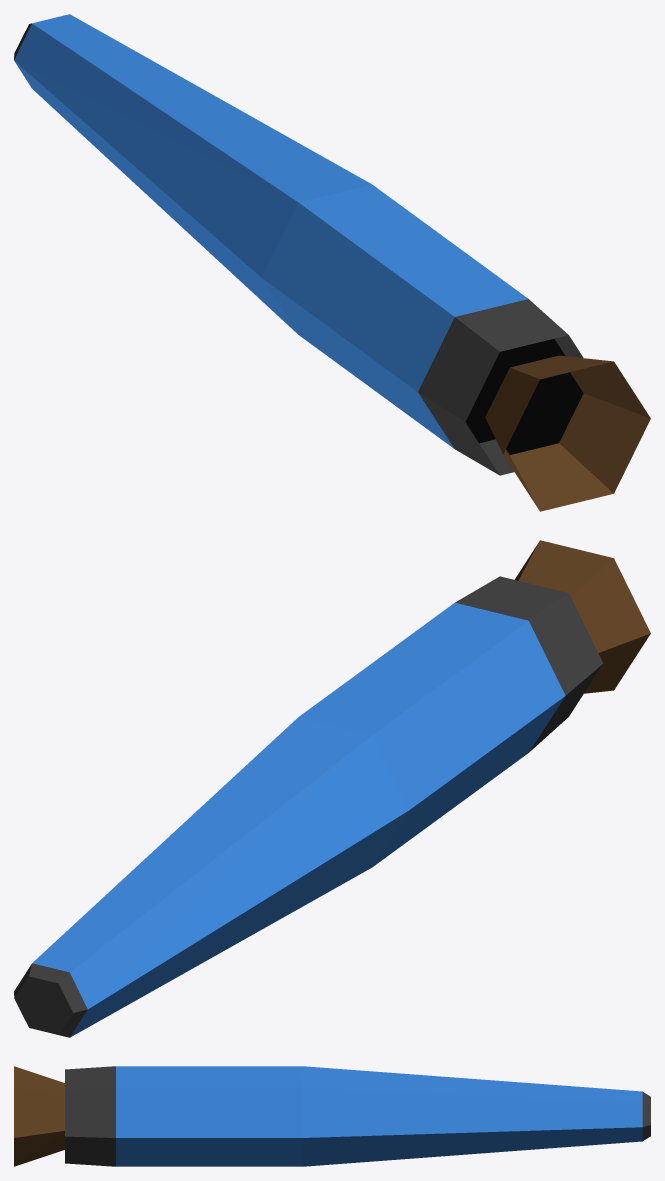
The model's file is vernier.FBX.
The picture shows the model from 3 angles, top to bottom: view 1: azimuth 30°, elevation 25°; view 2: azimuth 150°, elevation 25°; view 3: azimuth 270°, elevation 25°; orthographic projection. The views are drawn at different scales.
Visible parts, largest first — view 1: VIFS002, VIFS001, VIFS003, VIFS005, VIFS004; view 2: VIFS002, VIFS003, VIFS001; view 3: VIFS002, VIFS003, VIFS001.
Boxes of the visible parts, left/top/right/bottom form: VIFS002: left=14, top=14, right=528, bottom=448; VIFS001: left=485, top=355, right=650, bottom=511; VIFS003: left=14, top=23, right=583, bottom=475; VIFS005: left=506, top=372, right=583, bottom=454; VIFS004: left=465, top=339, right=565, bottom=443; VIFS002: left=32, top=602, right=565, bottom=1037; VIFS003: left=14, top=576, right=603, bottom=1037; VIFS001: left=514, top=540, right=650, bottom=693; VIFS002: left=116, top=1066, right=642, bottom=1166; VIFS003: left=65, top=1066, right=650, bottom=1166; VIFS001: left=14, top=1066, right=64, bottom=1166.
Size of the model in its own units: 0.18 by 0.154 by 1.13.
